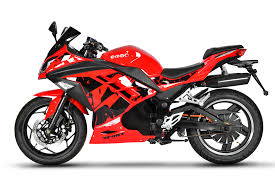motorcycle: (12, 21, 265, 165)
